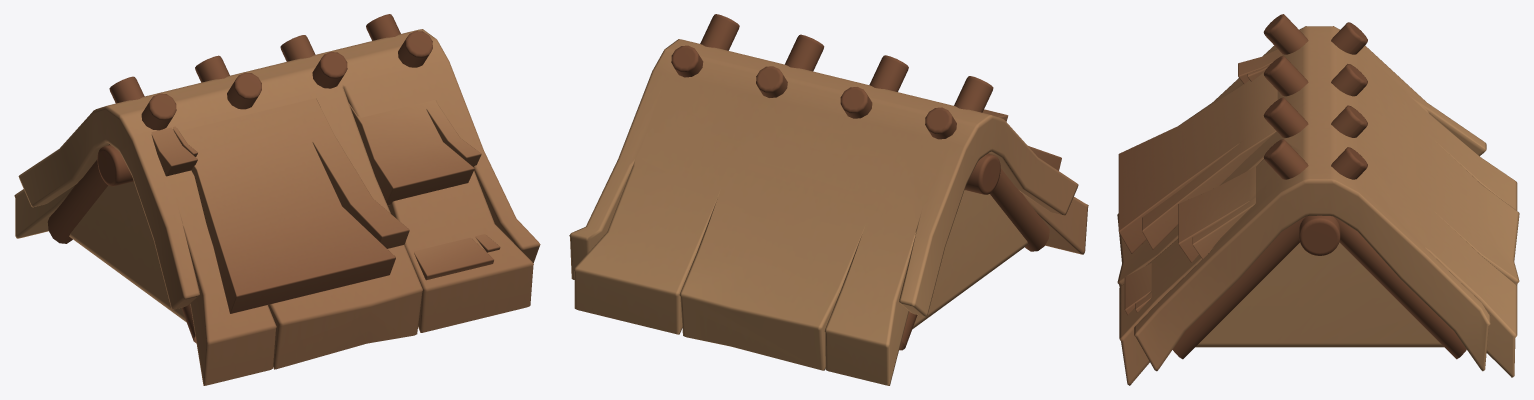
Rendered from SM_Clay_Roof_01.fbx.
3 views of the same model, side by side, from view 1: azimuth 30°, elevation 25°; view 2: azimuth 150°, elevation 25°; view 3: azimuth 270°, elevation 25° (orthographic).
Visible parts, largest first — view 1: SM_Clay_Roof_01; view 2: SM_Clay_Roof_01; view 3: SM_Clay_Roof_01.
Part boxes in pixels (x1,y1,x2,y2): SM_Clay_Roof_01: (14,14,540,385); SM_Clay_Roof_01: (569,14,1088,385); SM_Clay_Roof_01: (1117,14,1519,385).
Bounding box in the file's own units: 1.01 × 0.6412 × 1.02.
Materials: 1 (1 with a texture image).
